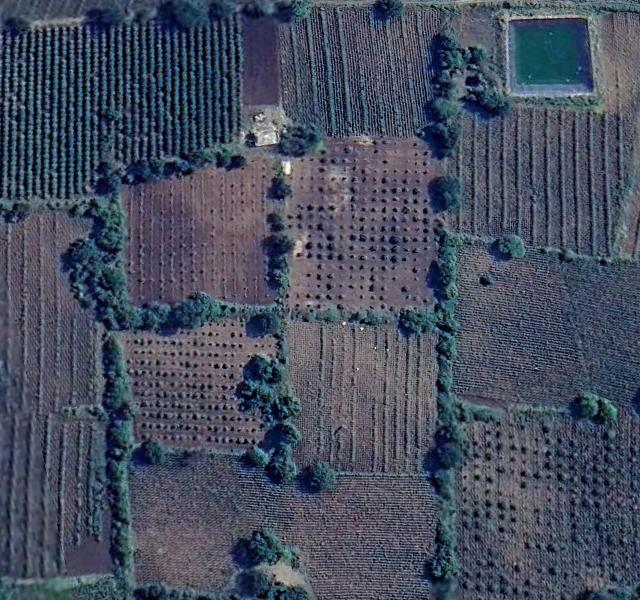EmptyFarms: (240, 7, 280, 112)
Farms: (2, 0, 241, 200), (129, 457, 449, 600), (5, 206, 118, 585), (457, 417, 635, 600), (451, 243, 640, 409), (287, 139, 447, 310), (450, 107, 626, 251), (119, 163, 292, 307), (282, 313, 439, 471), (126, 310, 278, 451), (282, 6, 446, 135)
water: (498, 17, 593, 101)
